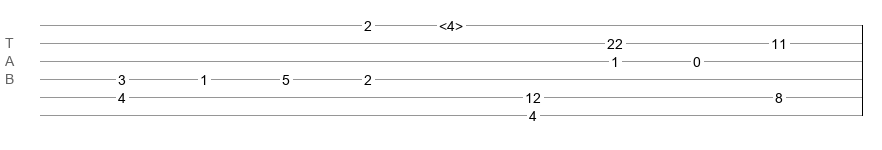0: (693, 54, 701, 64)
1: (200, 72, 208, 82), (611, 54, 619, 64)
11: (771, 36, 787, 46)
12: (525, 90, 541, 100)
2: (364, 72, 372, 82), (364, 18, 372, 28)
22: (607, 36, 623, 46)
3: (118, 72, 126, 82)
4: (118, 90, 126, 100), (529, 108, 537, 118)
5: (282, 72, 290, 82)
8: (775, 90, 783, 100)
harmonic: (439, 18, 463, 28)
